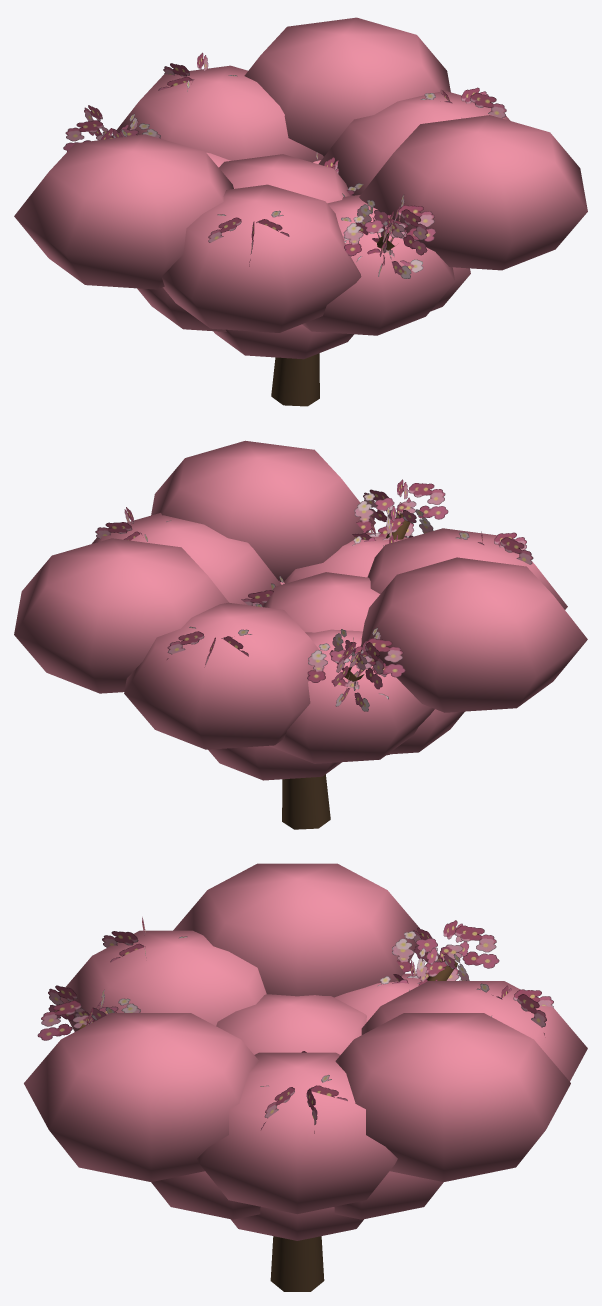
Rendered from qh_cerisier.94ccf2e169.glb.
3 renders of one model, top to bottom at view 1: azimuth 30°, elevation 25°; view 2: azimuth 150°, elevation 25°; view 3: azimuth 270°, elevation 25°, orthographic. The views are drawn at different scales.
Parts seen in each view (by area): view 1: masse, fleurs, tronc; view 2: masse, fleurs, tronc; view 3: masse, fleurs, tronc.
Boxes of the visible parts, bbox=[...] form: masse: bbox=[14, 17, 587, 359]; fleurs: bbox=[63, 52, 506, 278]; tronc: bbox=[271, 233, 394, 406]; masse: bbox=[14, 440, 587, 780]; fleurs: bbox=[95, 479, 533, 711]; tronc: bbox=[282, 512, 410, 829]; masse: bbox=[24, 863, 587, 1240]; fleurs: bbox=[37, 917, 553, 1133]; tronc: bbox=[78, 957, 457, 1291].
Size of the model in its own units: 1.78 by 1 by 1.65.
5 materials, 3 textured.
